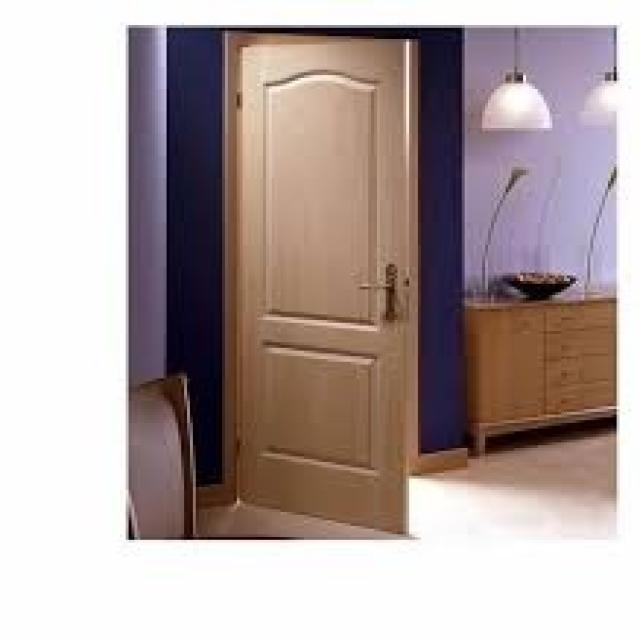door: (228, 34, 421, 536)
